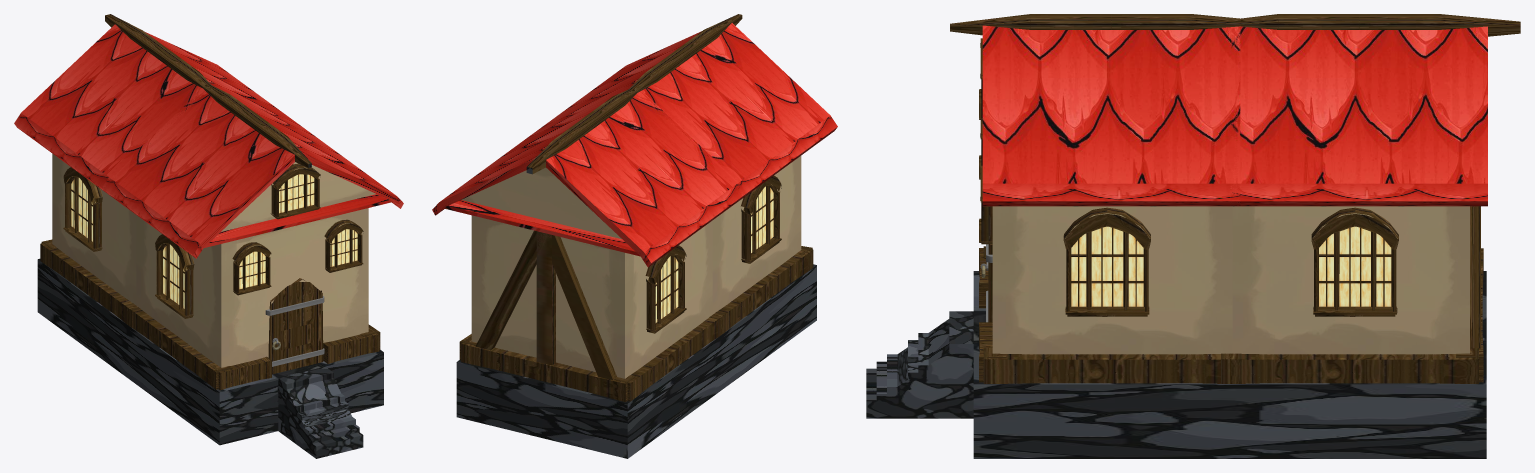
The model's file is house_chesburg_3.glb.
3 views of the same model, side by side, from view 1: azimuth 30°, elevation 25°; view 2: azimuth 150°, elevation 25°; view 3: azimuth 270°, elevation 25° (orthographic). The views are drawn at different scales.
Visible parts, largest first — view 1: Cube.022, Cube.028, Cube.031, Cube.021, Cube.025, Cube.029, Cube.032, deur_hout_0.003, Object_6.008, Object_6.010, Object_6.015, Object_6.012 (+2 smaller); view 2: Cube.028, Cube.023, Cube.031, Cube.022, Cube.029, Cube.025, Object_6.008, Object_6.010; view 3: Cube.022, Cube.028, Cube.031, Cube.026, Cube.027, Cube.032, Object_6.011, Object_6.009, Cube.023, Cube.021.
Part boxes in pixels (bbox=[...]): Cube.022: bbox=[102, 85, 403, 258]; Cube.028: bbox=[14, 14, 306, 191]; Cube.031: bbox=[37, 258, 383, 445]; Cube.021: bbox=[210, 208, 379, 390]; Cube.025: bbox=[124, 215, 232, 389]; Cube.029: bbox=[40, 153, 140, 327]; Cube.032: bbox=[278, 366, 363, 458]; deur_hout_0.003: bbox=[268, 278, 323, 374]; Object_6.008: bbox=[155, 234, 194, 318]; Object_6.010: bbox=[63, 167, 102, 251]; Object_6.015: bbox=[270, 163, 320, 219]; Object_6.012: bbox=[324, 219, 363, 272]; Cube.028: bbox=[432, 89, 745, 267]; Cube.023: bbox=[461, 215, 635, 401]; Cube.031: bbox=[456, 264, 816, 458]; Cube.022: bbox=[536, 14, 837, 197]; Cube.029: bbox=[614, 220, 725, 401]; Cube.025: bbox=[709, 156, 813, 337]; Object_6.008: bbox=[741, 175, 781, 263]; Object_6.010: bbox=[645, 245, 686, 333]; Cube.022: bbox=[950, 14, 1240, 206]; Cube.028: bbox=[1230, 14, 1520, 206]; Cube.031: bbox=[973, 271, 1486, 458]; Cube.026: bbox=[983, 206, 1241, 383]; Cube.027: bbox=[1221, 206, 1478, 383]; Cube.032: bbox=[866, 311, 973, 418]; Object_6.011: bbox=[1063, 207, 1150, 316]; Object_6.009: bbox=[1311, 207, 1398, 316]; Cube.023: bbox=[1456, 206, 1483, 382]; Cube.021: bbox=[979, 248, 1006, 382].
Size of what is drawn, in the model's own units: 6.65 by 8.21 by 12.68.
6 materials, 6 textured.
